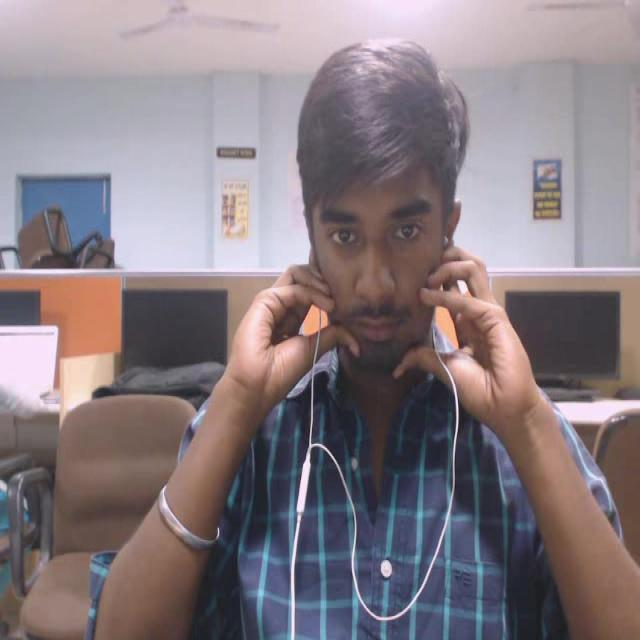Engaged: (280, 30, 505, 421)
